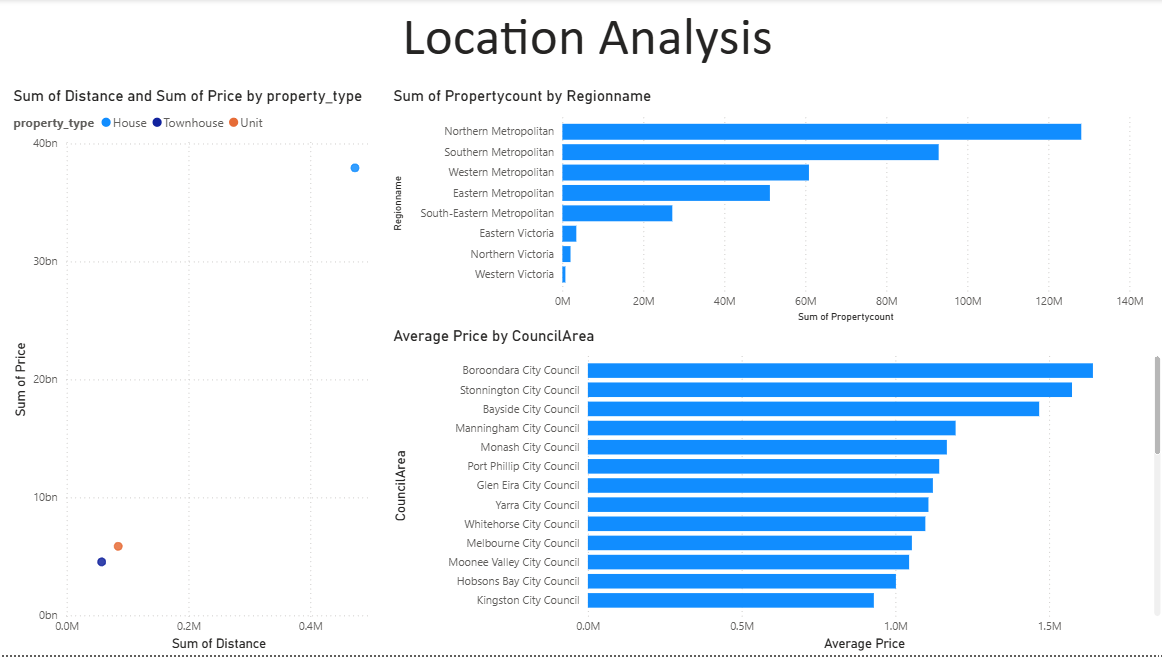

What the dashboard file says about the page in this screenshot:
{"tool":"powerbi","page":{"name":"Page 3","canvas":[1280,720],"ordinal":2},"visuals":[{"type":"textbox","box":[9.6,0,1270.7,96.1],"z":0},{"type":"scatterChart","fields":{"X":["Sum(melbourne_house_prices_cleaned.Distance)"],"Y":["Sum(melbourne_house_prices_cleaned.Price)"],"Series":["melbourne_house_prices_cleaned.property_type"]},"box":[9.6,96.1,417.2,624.4],"z":1},{"type":"barChart","fields":{"Category":["melbourne_house_prices_cleaned.Regionname"],"Y":["Sum(melbourne_house_prices_cleaned.Propertycount)"]},"box":[426.8,96.1,834.3,263.5],"z":2},{"type":"barChart","fields":{"Category":["melbourne_house_prices_cleaned.CouncilArea"],"Y":["melbourne_house_prices_cleaned.Average Price"]},"box":[426.8,359.5,853.5,360.9],"z":3}]}

Visuals, with their boxes in screenshot pixels (x1, y1, x2, y2), scaled from the page's 1280x720 canvas onto the 1162x657 screenshot:
textbox: left=9, top=0, right=1161, bottom=88
scatterChart - Sum(melbourne_house_prices_cleaned.Distance) x Sum(melbourne_house_prices_cleaned.Price): left=9, top=88, right=387, bottom=656
barChart - melbourne_house_prices_cleaned.Regionname x Sum(melbourne_house_prices_cleaned.Propertycount): left=387, top=88, right=1145, bottom=328
barChart - melbourne_house_prices_cleaned.CouncilArea x melbourne_house_prices_cleaned.Average Price: left=387, top=328, right=1161, bottom=656
